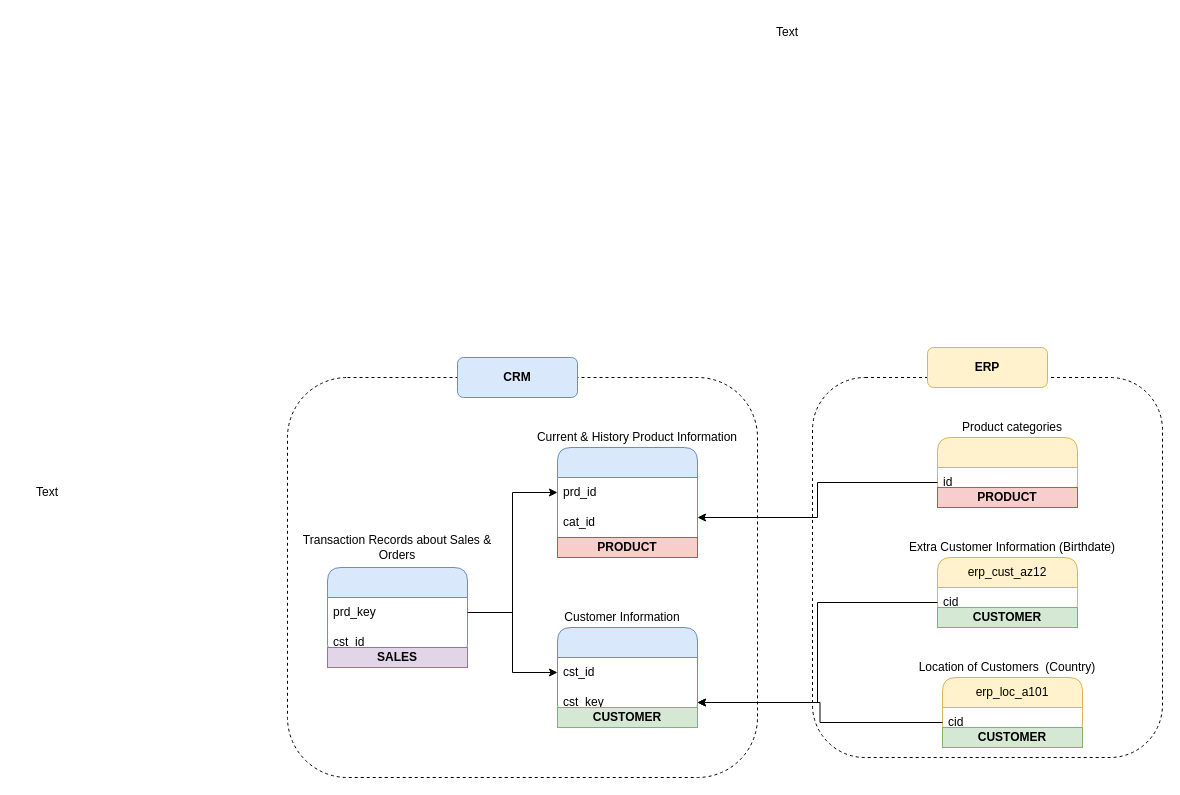
This 1180x795 diagram has some shape labels left out. Each missing label, with the box of its shape:
crm_cust_info: (556, 626, 698, 718)
crm_prd_info: (556, 446, 698, 558)
crm_sales_details: (326, 566, 468, 658)
erp_px_cat_g1v2: (936, 436, 1078, 498)
